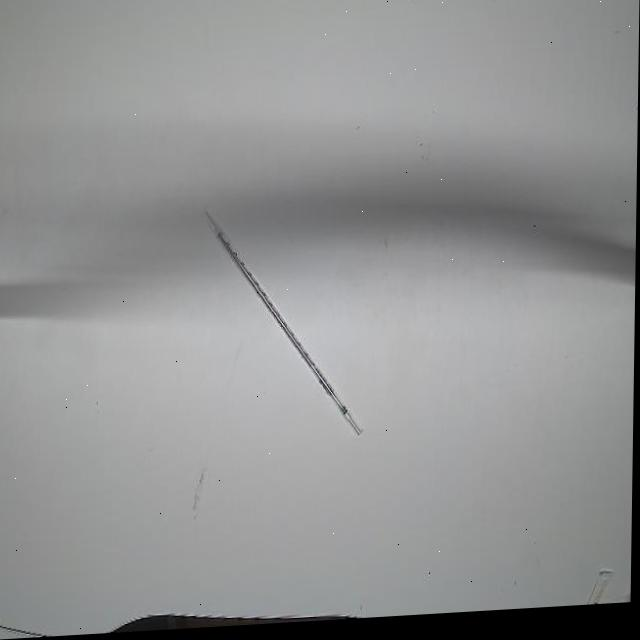Serelogical Pipet 2 mL: (197, 200, 368, 451)
